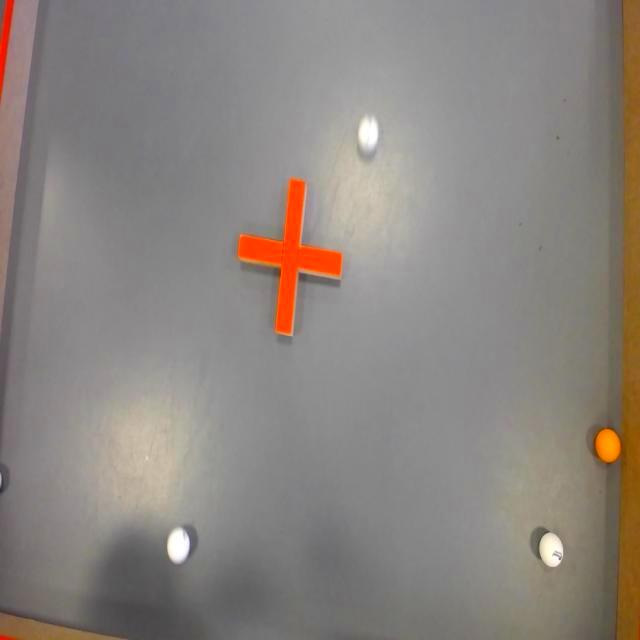orange-golf-balls: (594, 428, 626, 465)
white-golf-balls: (353, 114, 382, 152), (166, 526, 194, 564)
